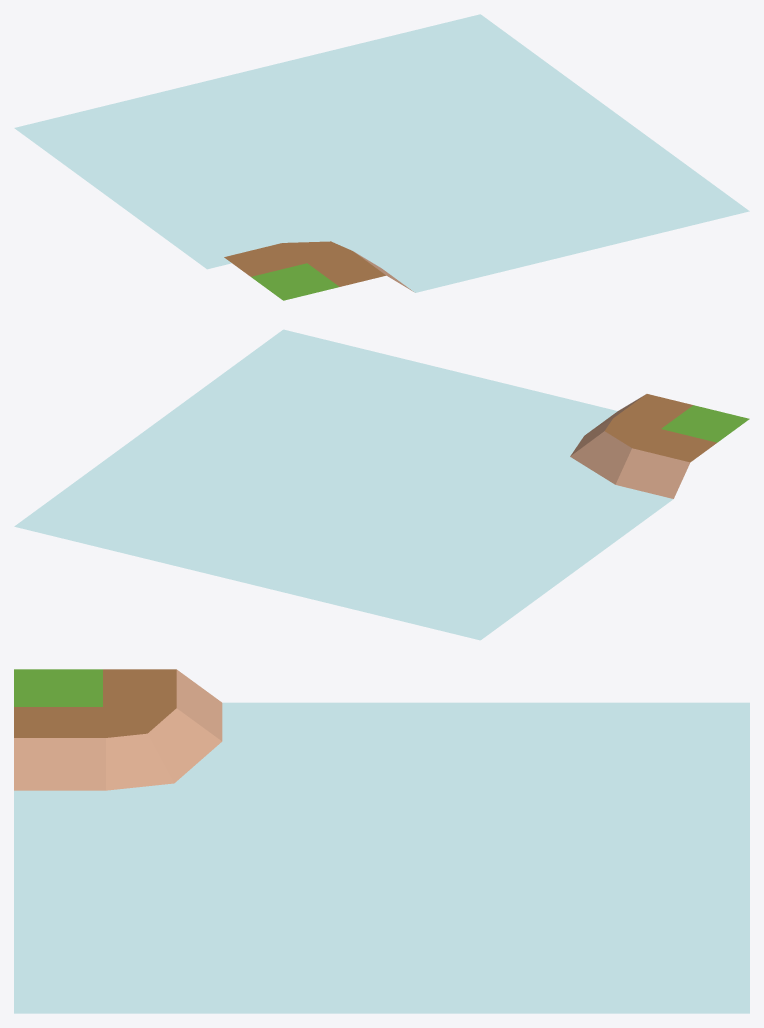
File: ground_riverCornerSmall.glb
The picture shows the model from 3 angles, top to bottom: view 1: azimuth 30°, elevation 25°; view 2: azimuth 150°, elevation 25°; view 3: azimuth 270°, elevation 25°; orthographic projection. The views are drawn at different scales.
Parts seen in each view (by area): view 1: ground_riverCornerSmall; view 2: ground_riverCornerSmall; view 3: ground_riverCornerSmall.
Boxes of the visible parts, x1,y1,x2,y2 form: ground_riverCornerSmall: (14,14,749,300); ground_riverCornerSmall: (14,329,749,640); ground_riverCornerSmall: (14,669,749,1013).
Bounding box in the file's own units: 1 × 0.05 × 1.
